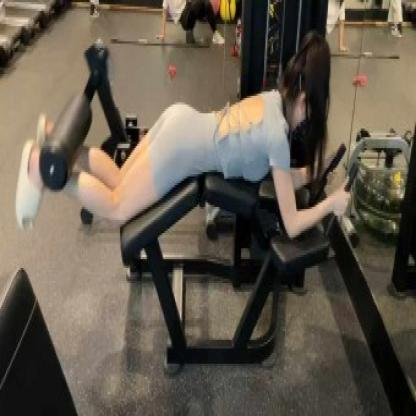reg curl machine: (13, 15, 359, 377)
